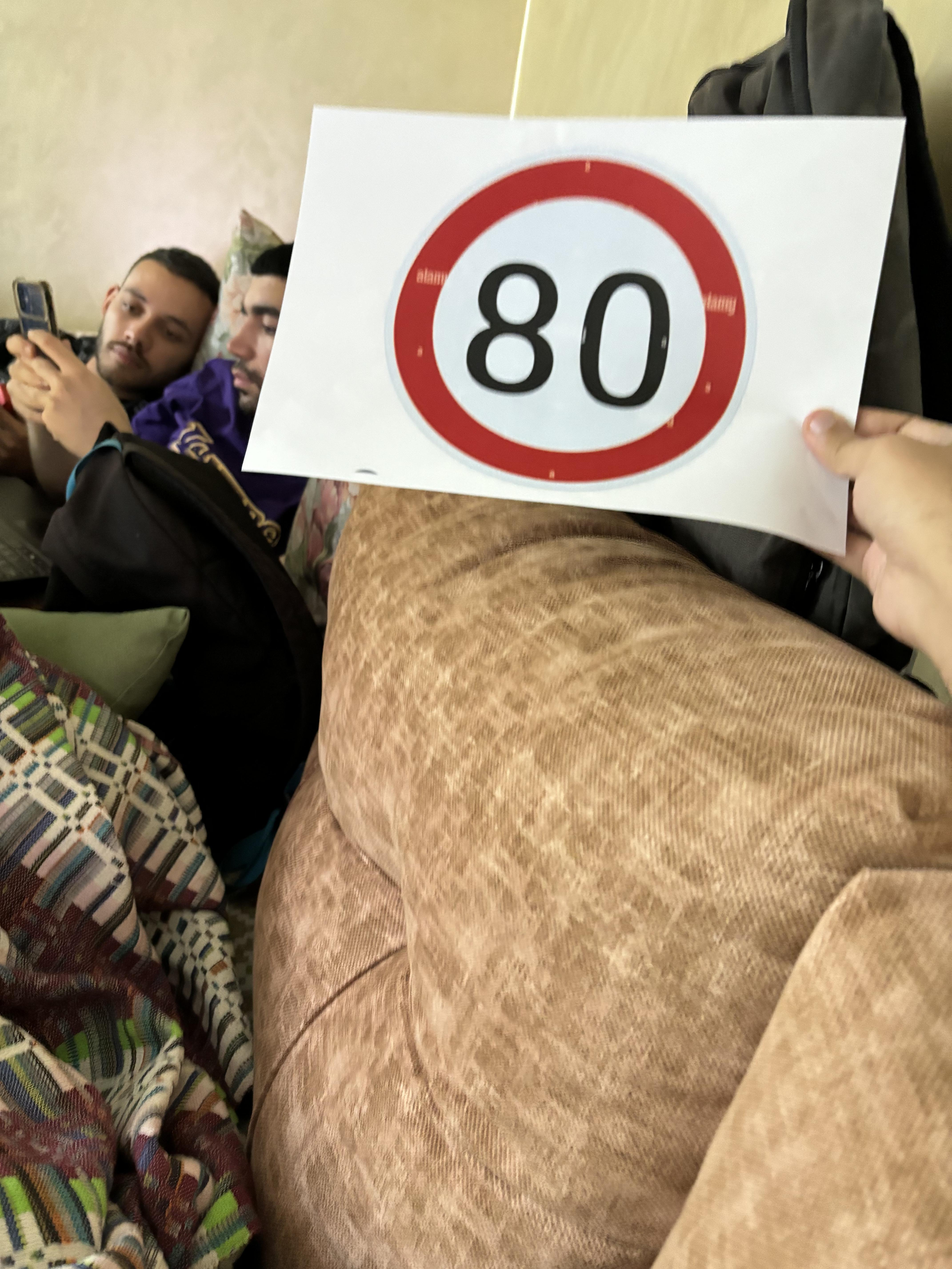80-Speed: (392, 147, 756, 495)
